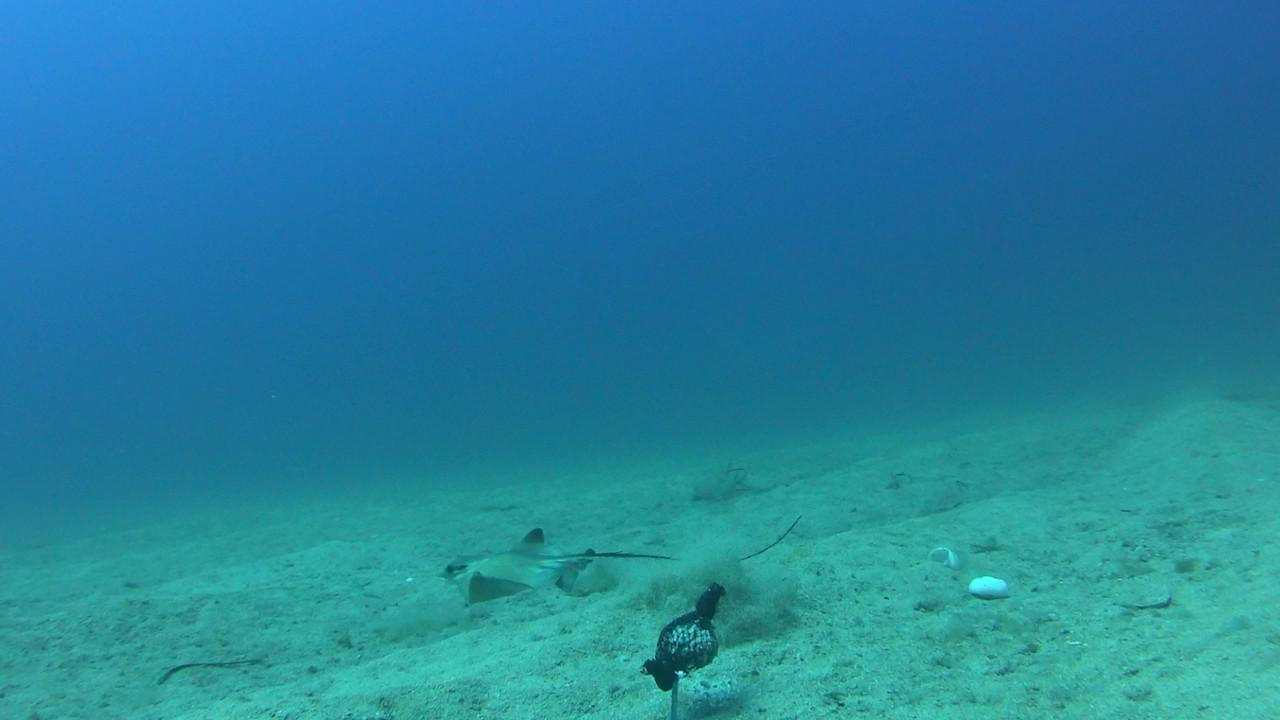myliobatis: (436, 502, 810, 606)
